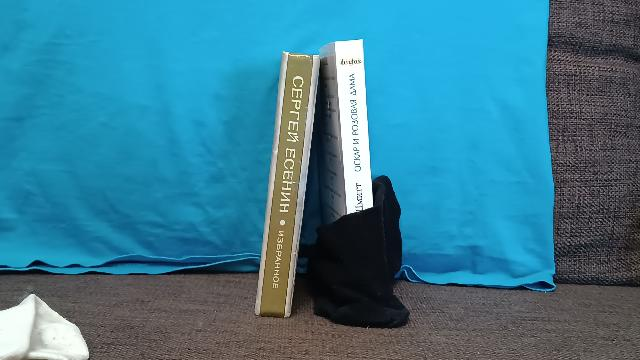book-s-spine: (254, 52, 320, 320), (335, 39, 380, 318)
